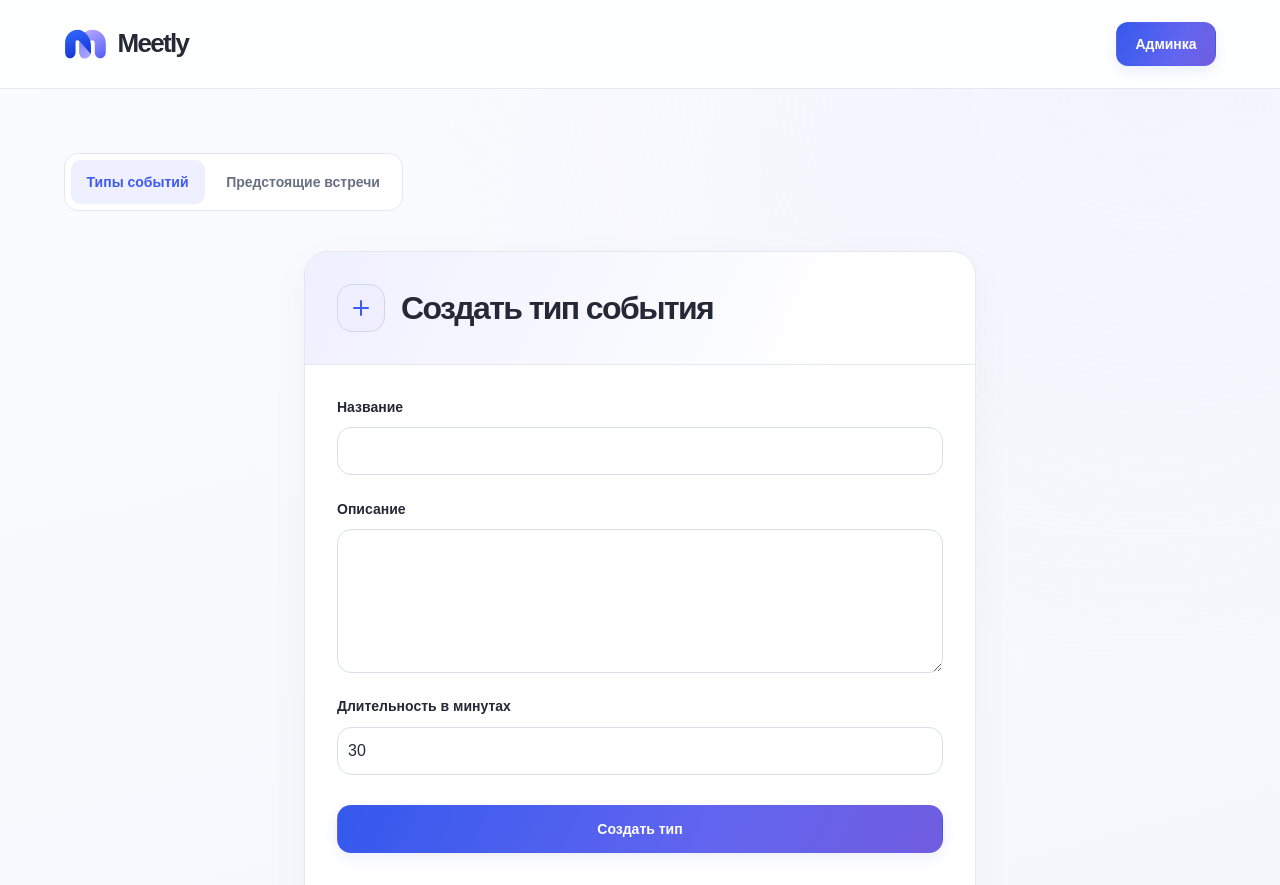
form keeps inputs and focuses first invalid field
Type "Разговор" into the field labelled "Название" at (640, 451), box [337,427,943,475]
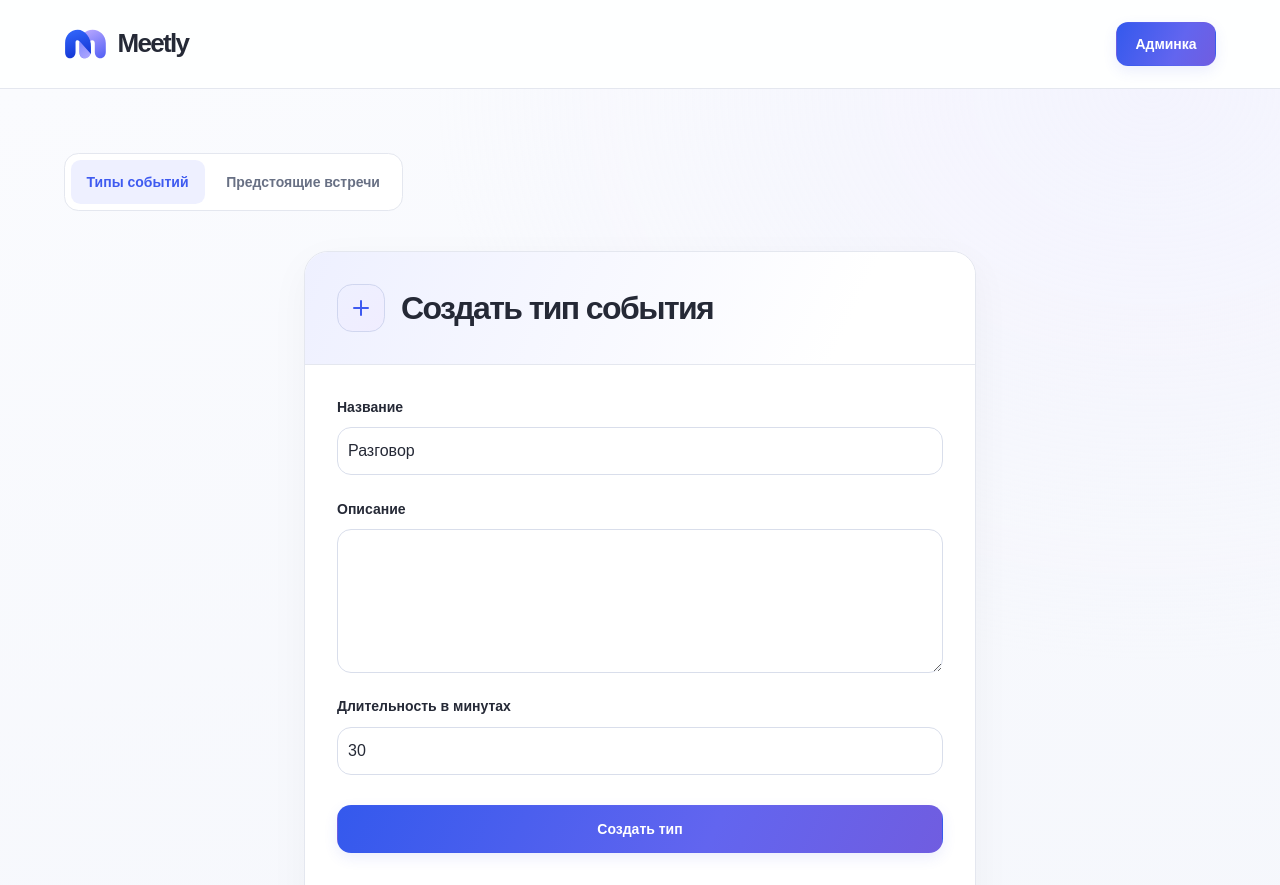
Type "Текст" into the text box labelled "Описание" at (640, 601), box [337,529,943,673]
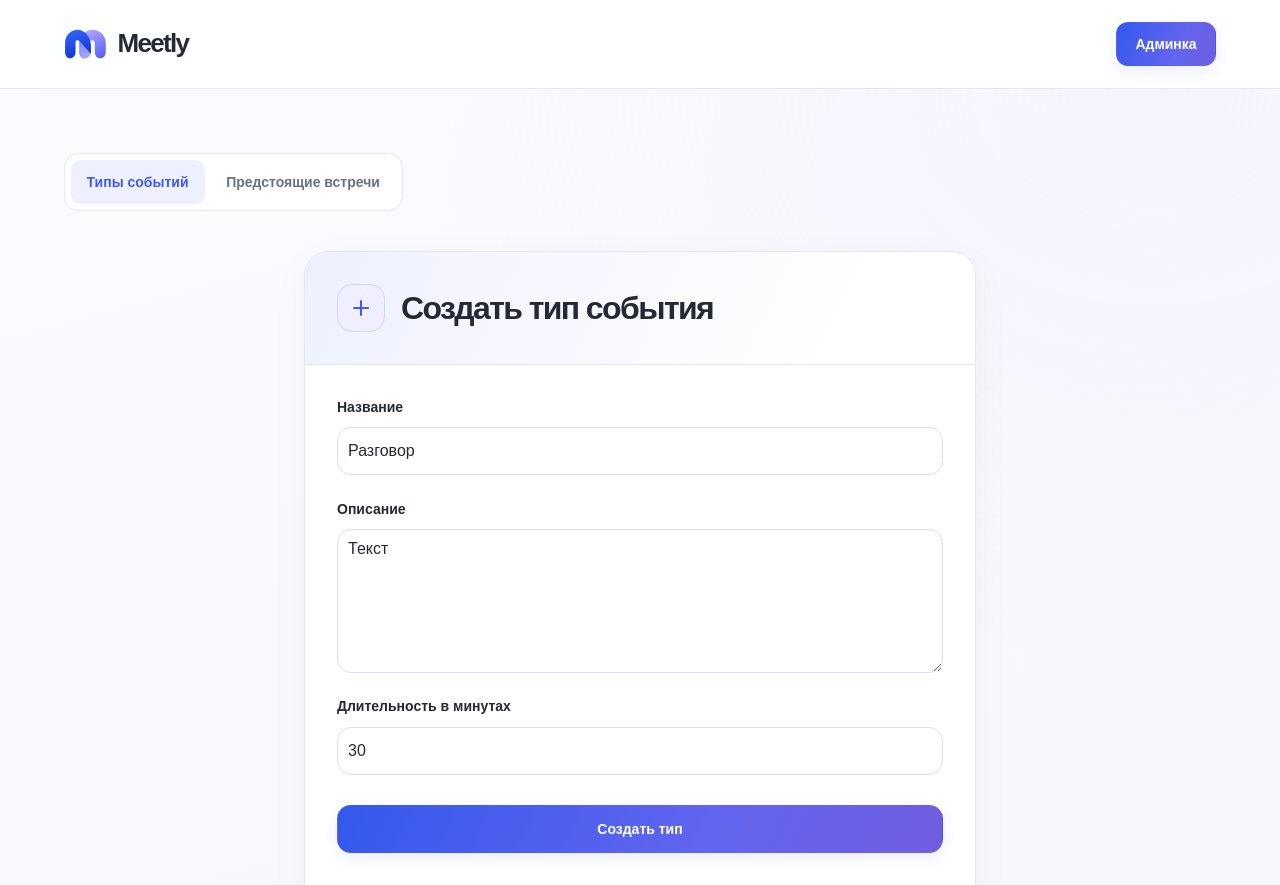
Click the button "Создать тип" at (640, 829), box [337,805,943,853]
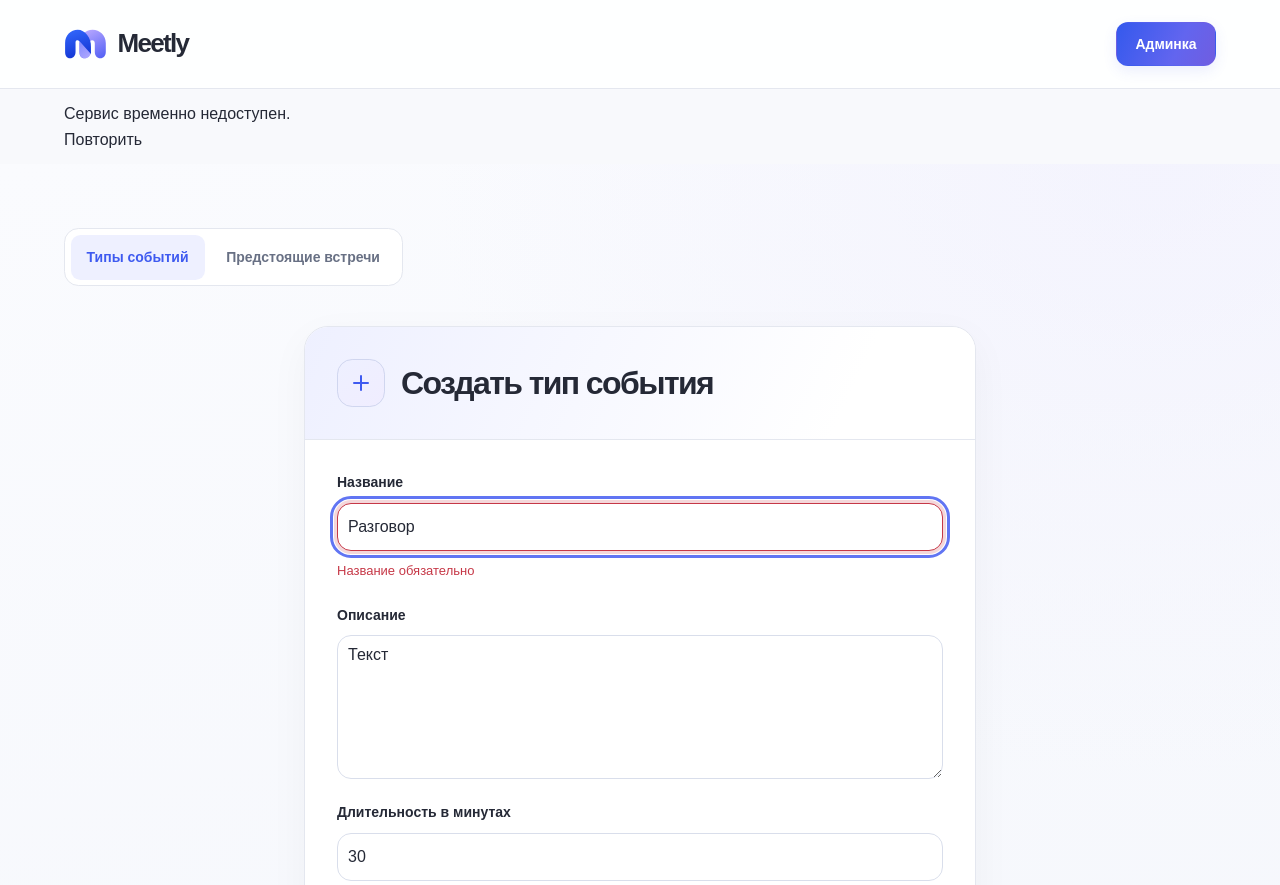
expect the text "Название обязательно" is shown: met, box [337,563,474,578]
